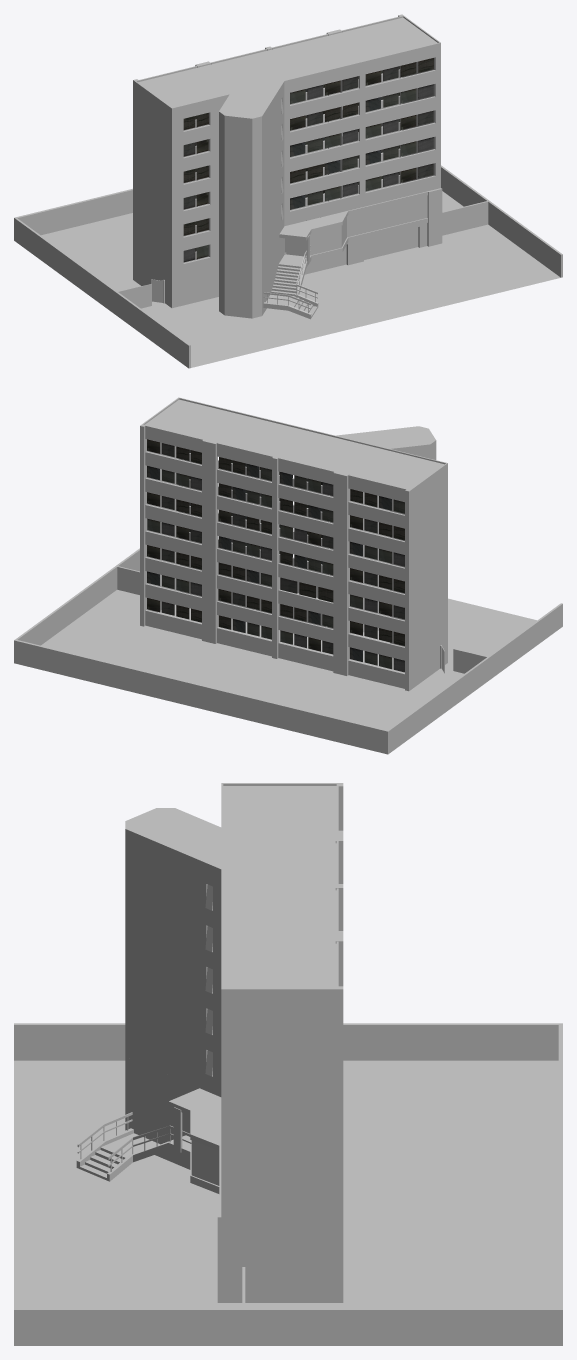
3 renders of one model, top to bottom at view 1: azimuth 30°, elevation 25°; view 2: azimuth 150°, elevation 25°; view 3: azimuth 270°, elevation 25°, orthographic. The views are drawn at different scales.
Visible parts, largest first — view 1: BB-017; view 2: BB-017; view 3: BB-017.
Boxes of the visible parts, x1,y1,x2,y2 form: BB-017: [14, 14, 562, 368]; BB-017: [14, 397, 562, 754]; BB-017: [14, 783, 562, 1345].
Size of what is drawn, in the model's own units: 44.47 by 22.72 by 36.
